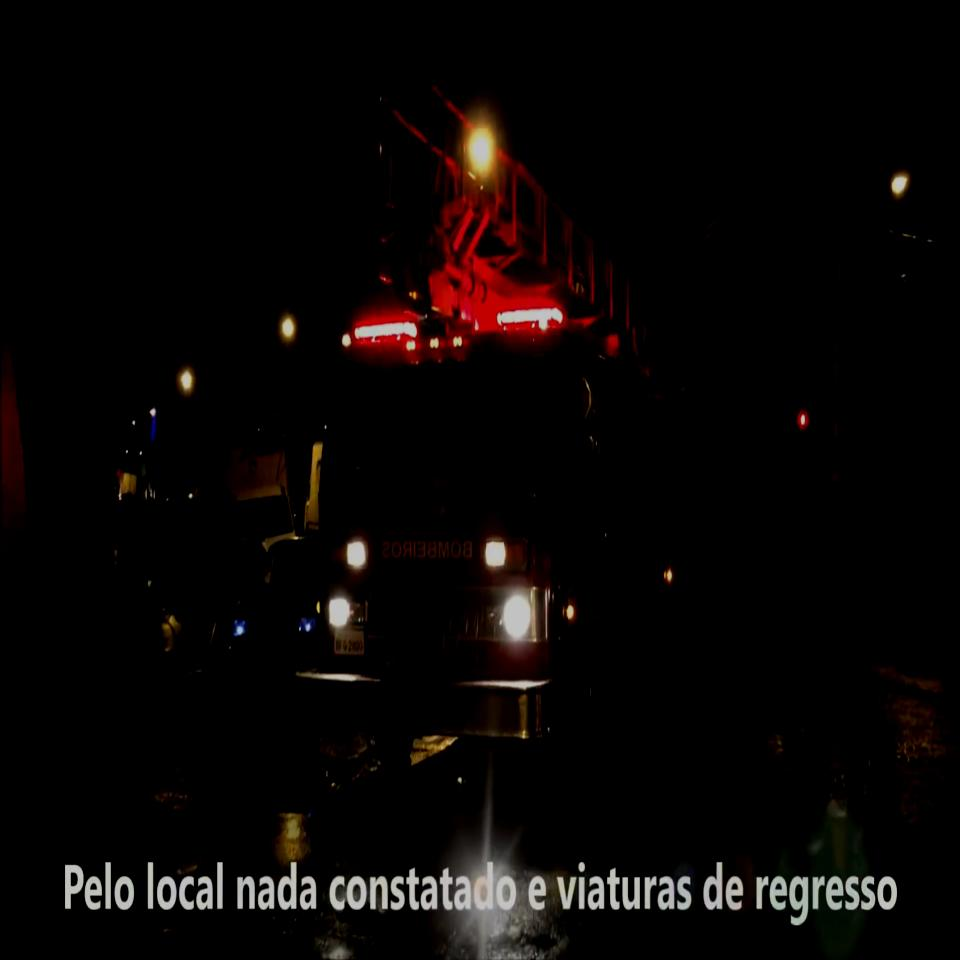bombeiro: (312, 83, 712, 768)
